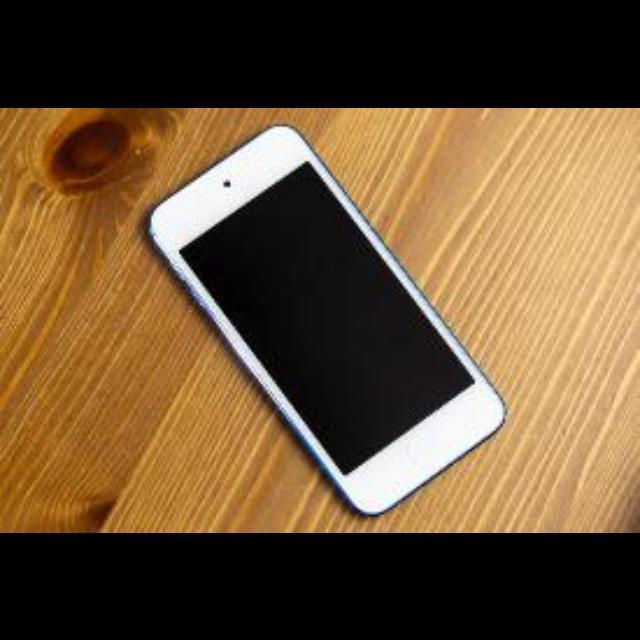Phone: (146, 124, 506, 518)
